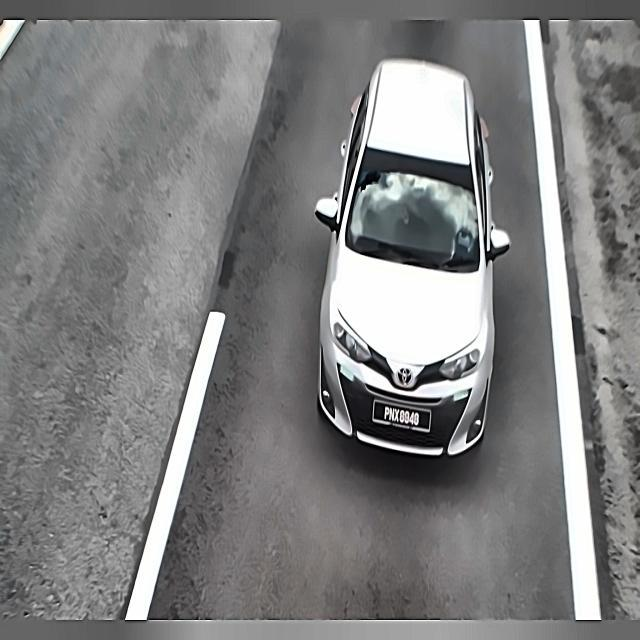car: (370, 396, 434, 438)
